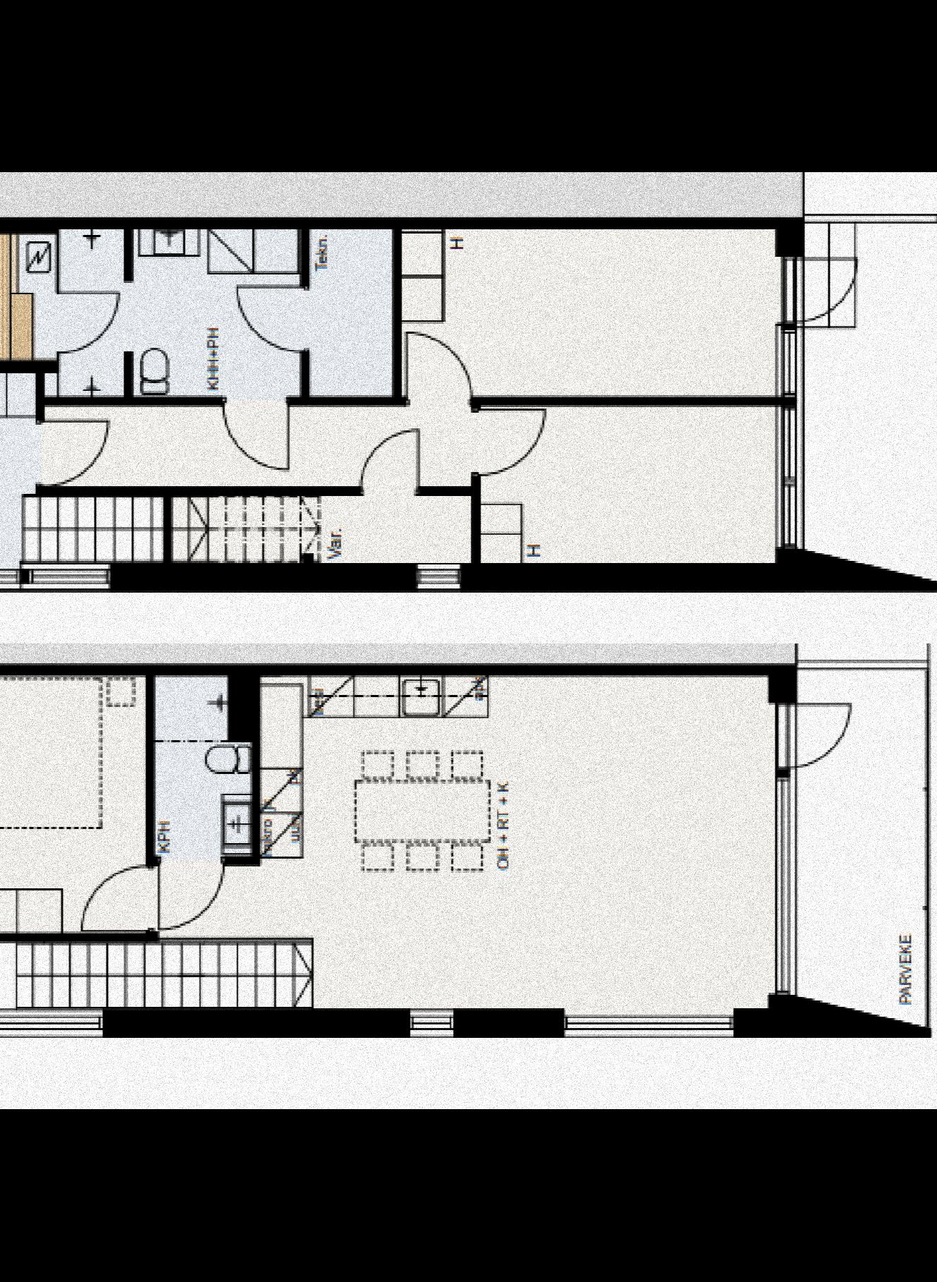door: (74, 852, 230, 932), (398, 319, 482, 410), (775, 246, 858, 335), (776, 696, 860, 774), (211, 403, 287, 474), (233, 285, 309, 354), (474, 406, 549, 475), (356, 427, 424, 498), (51, 291, 124, 357), (41, 422, 110, 483)
window: (772, 781, 799, 993), (563, 1010, 735, 1037), (0, 1011, 107, 1034), (778, 403, 795, 544), (779, 331, 800, 393), (407, 1010, 455, 1037)
zone: (0, 230, 778, 580), (0, 670, 773, 1007), (394, 225, 791, 408), (50, 230, 393, 396), (790, 664, 928, 1033), (799, 220, 937, 583), (476, 405, 781, 559), (0, 677, 147, 941), (148, 678, 257, 864), (0, 230, 49, 363)
